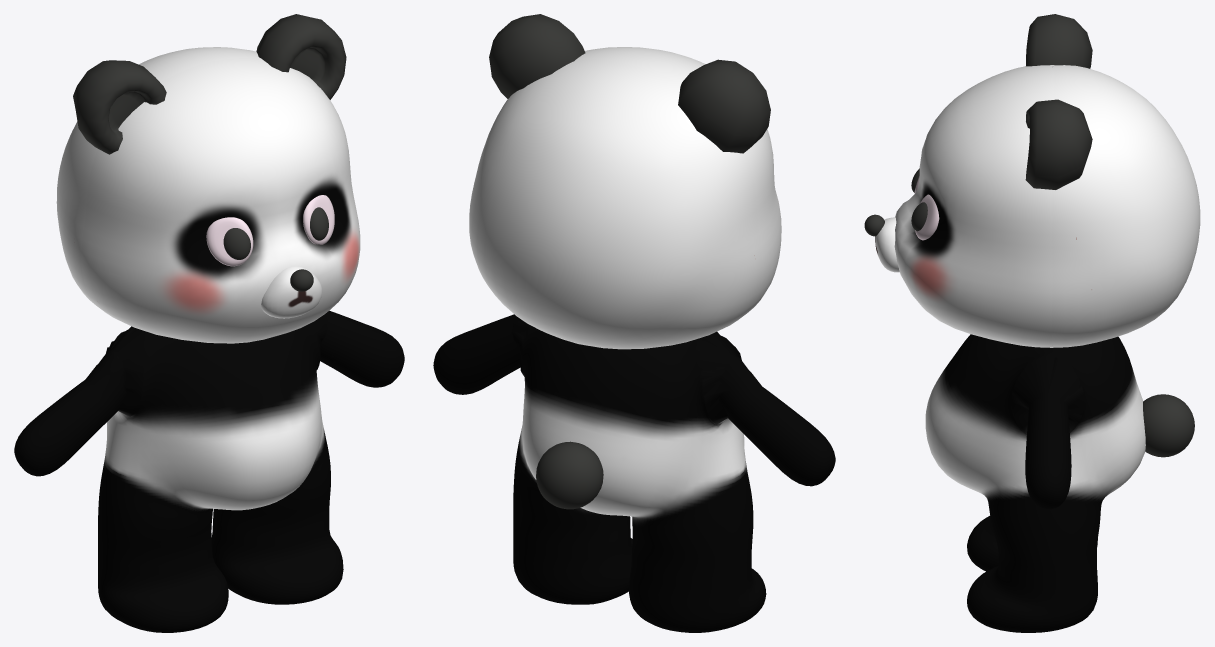
Rendered from panda.glb.
3 renders of one model, left to right at view 1: azimuth 30°, elevation 25°; view 2: azimuth 150°, elevation 25°; view 3: azimuth 270°, elevation 25°, orthographic. The views are drawn at different scales.
Visible parts, largest first — view 1: panda; view 2: panda; view 3: panda.
Part boxes in pixels (x1,y1,x2,y2): panda: [14, 14, 404, 632]; panda: [433, 14, 835, 632]; panda: [864, 14, 1200, 632].
Size of the model in its own units: 2.51 by 3.43 by 1.98.
5 materials, 3 textured.
